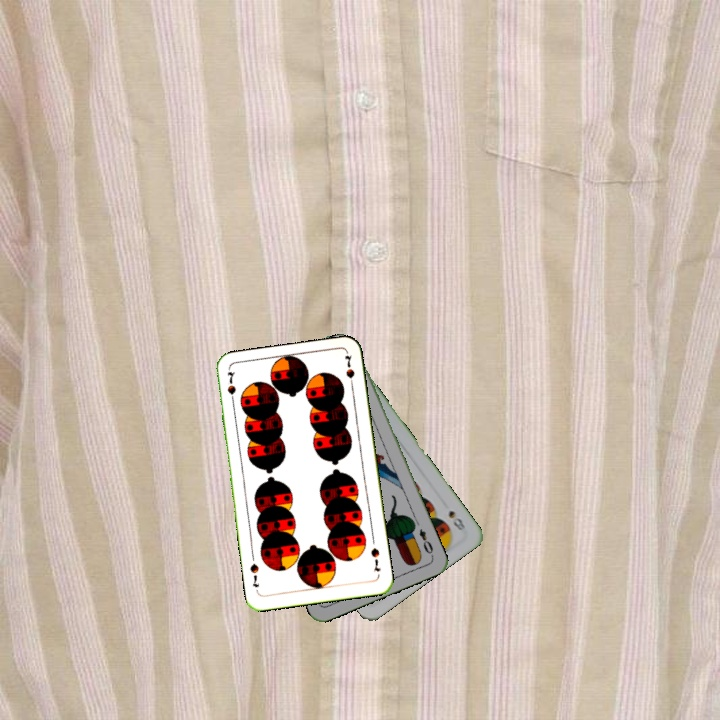EO: (415, 525, 436, 559)
S7: (223, 368, 238, 408), (367, 543, 383, 574)
S8: (444, 506, 468, 533)
